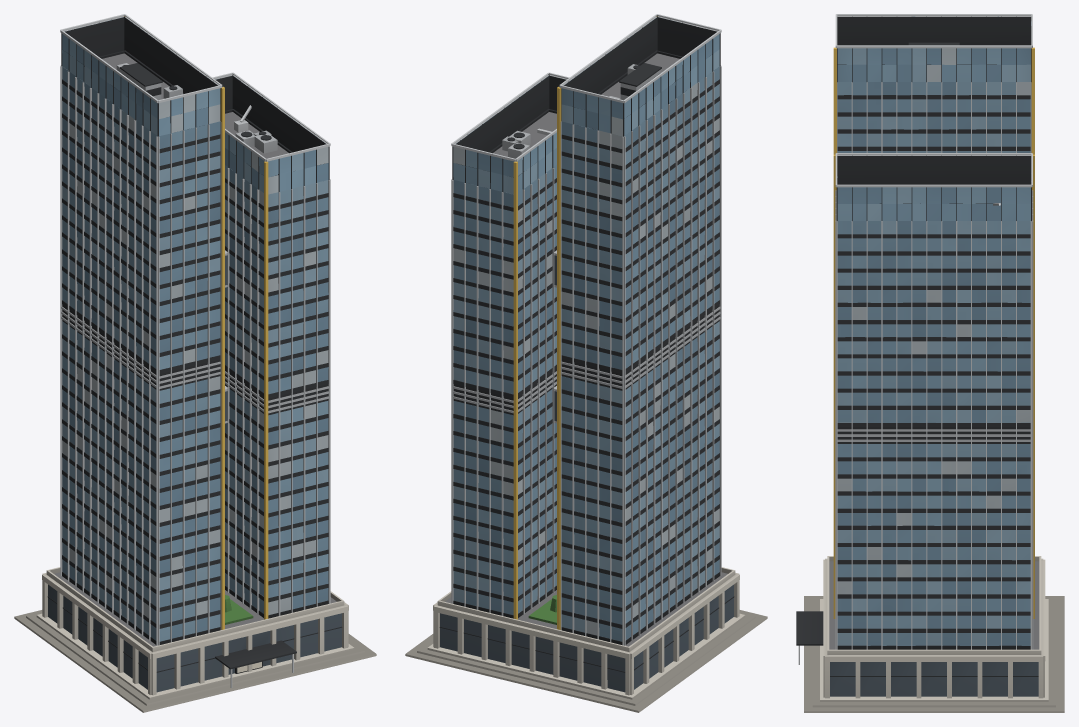
The picture shows the model from 3 angles, left to right: view 1: azimuth 30°, elevation 25°; view 2: azimuth 150°, elevation 25°; view 3: azimuth 270°, elevation 25°; orthographic projection.
Parts seen in each view (by area): view 1: t3; view 2: t3; view 3: t3.
Boxes of the visible parts, box(x1,y1,x2,y2) form: t3: box(14, 14, 376, 712); t3: box(405, 14, 767, 712); t3: box(796, 14, 1064, 712).
Size of the model in its own units: 56.12 by 136 by 55.24.
